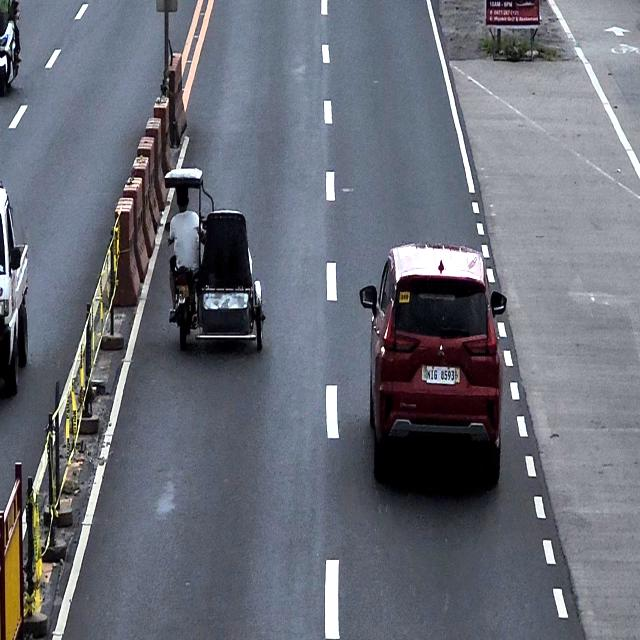Car: (359, 241, 507, 480), (0, 182, 31, 405)
License-Plate: (420, 362, 460, 386)
Motorcycle: (0, 15, 21, 95)
Tricycle: (164, 166, 265, 353)
